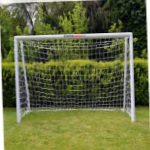goals: (12, 31, 141, 123)
